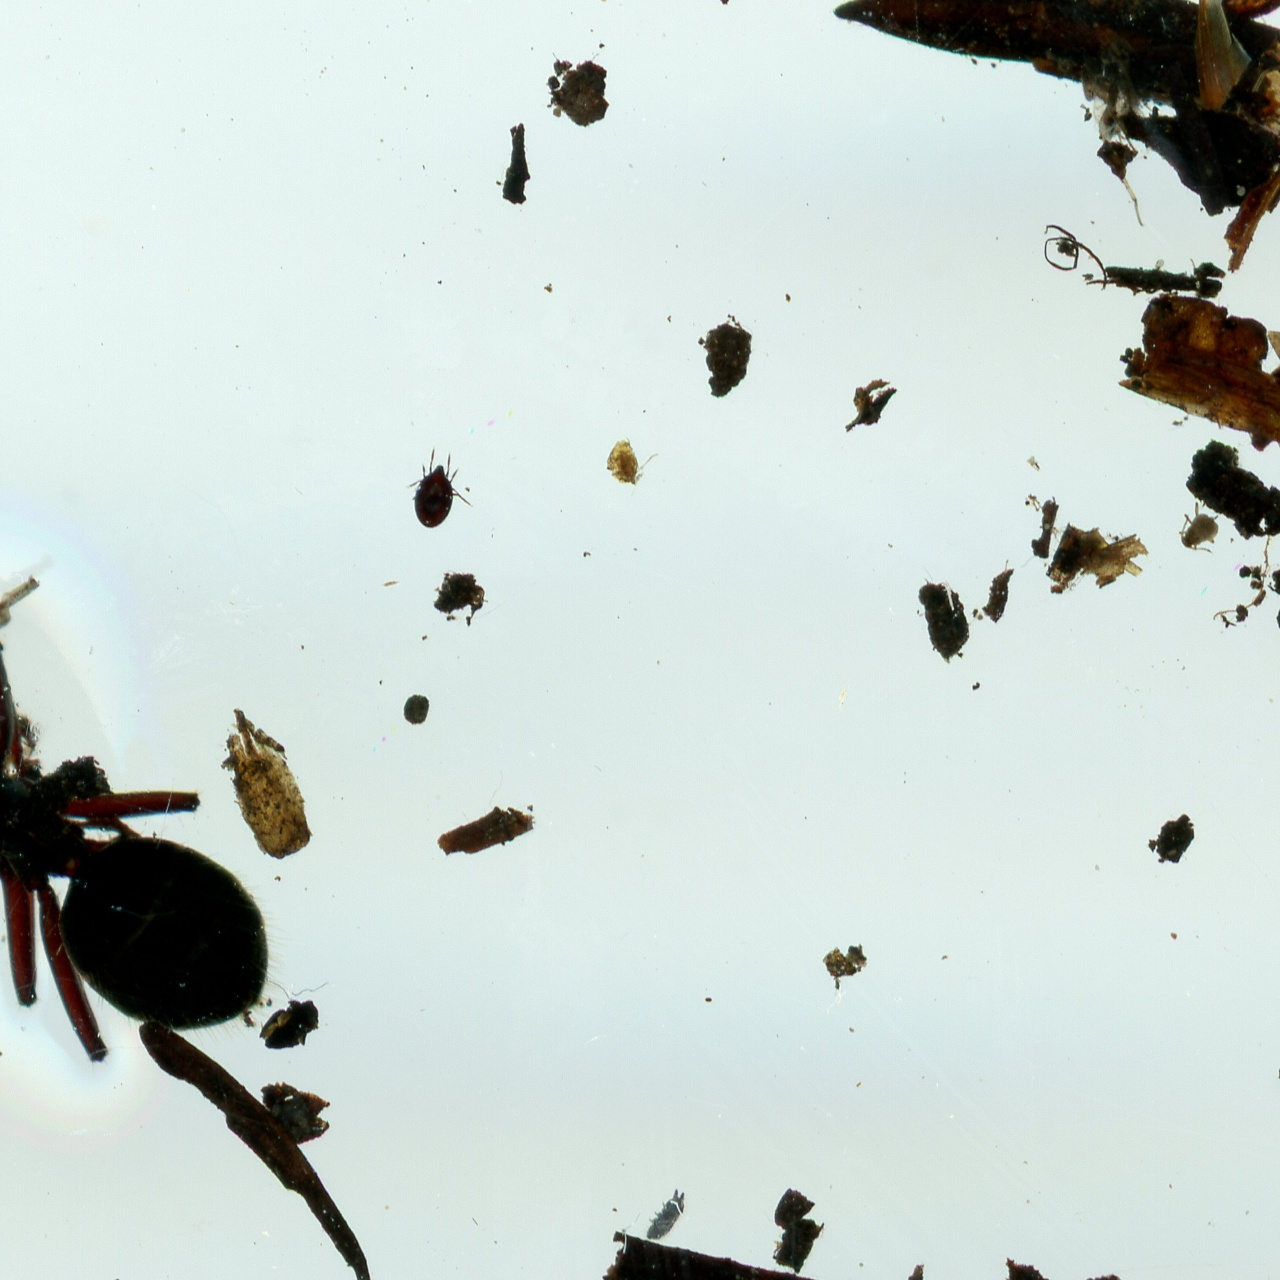arthropod: (0, 443, 394, 1121), (402, 443, 476, 536), (639, 1180, 695, 1252), (1176, 499, 1221, 557)
